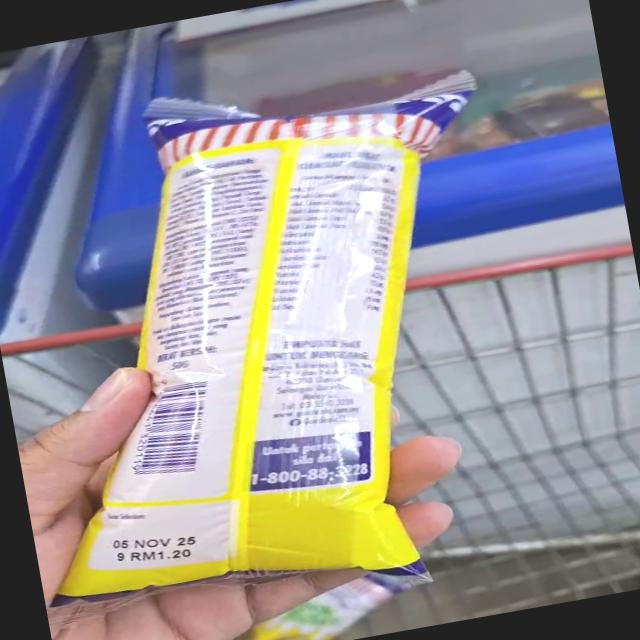Roti: (0, 38, 534, 624)
